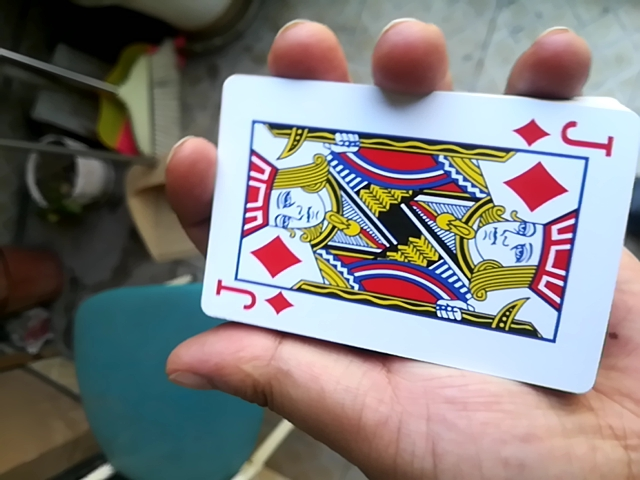fk j: (188, 71, 640, 390)
